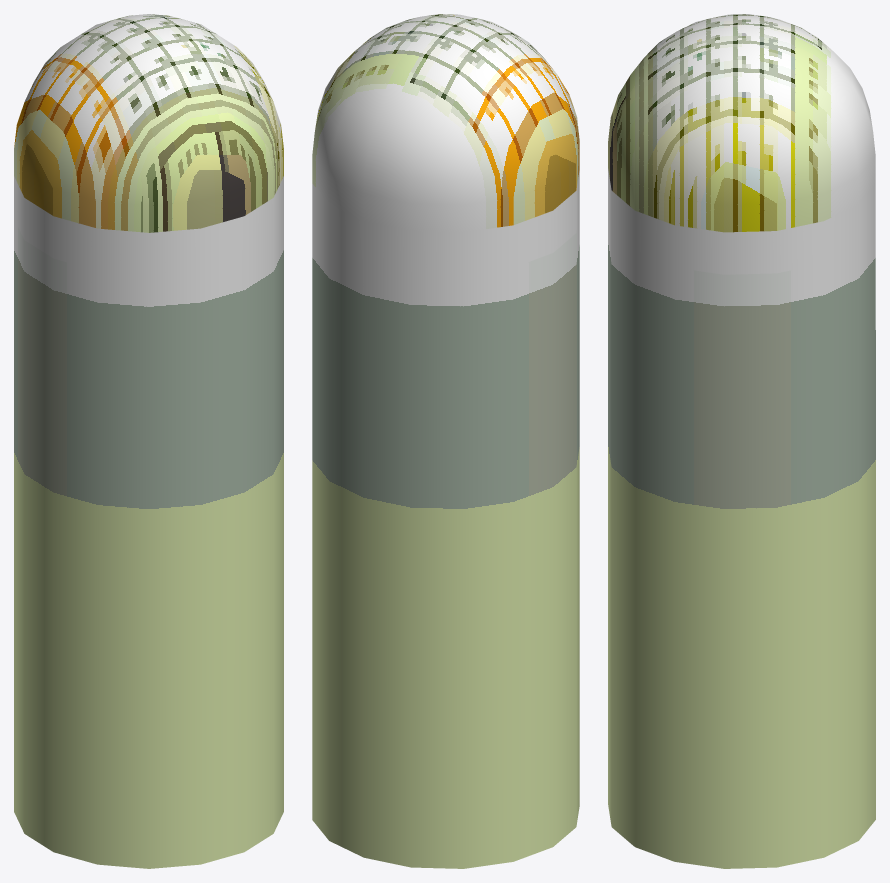
The picture shows the model from 3 angles, left to right: view 1: azimuth 30°, elevation 25°; view 2: azimuth 150°, elevation 25°; view 3: azimuth 270°, elevation 25°; orthographic projection.
Parts seen in each view (by area): view 1: Joint_0_Object_1, Joint_0_Object_0; view 2: Joint_0_Object_1, Joint_0_Object_0; view 3: Joint_0_Object_1, Joint_0_Object_0.
Part boxes in pixels (x1=…): Joint_0_Object_1: x1=14, y1=14, x2=283, y2=868; Joint_0_Object_0: x1=14, y1=176, x2=283, y2=275; Joint_0_Object_1: x1=312, y1=14, x2=579, y2=868; Joint_0_Object_0: x1=312, y1=171, x2=579, y2=274; Joint_0_Object_1: x1=608, y1=14, x2=875, y2=868; Joint_0_Object_0: x1=608, y1=169, x2=875, y2=274.
Bounding box in the file's own units: 247 × 799 × 247.
